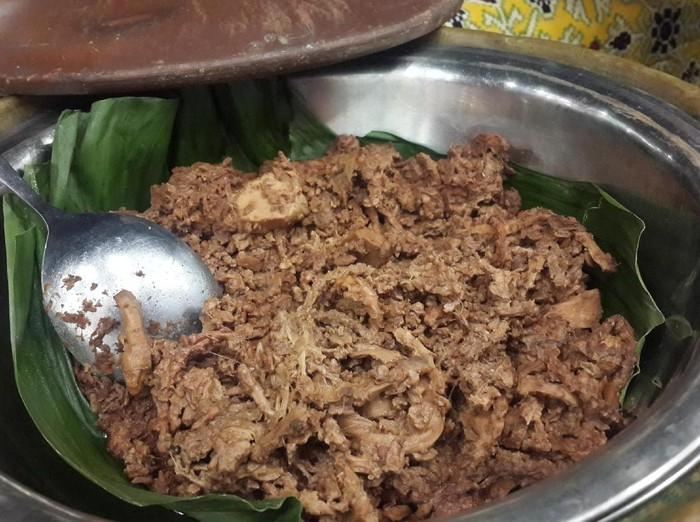gudeg: (75, 134, 640, 522)
